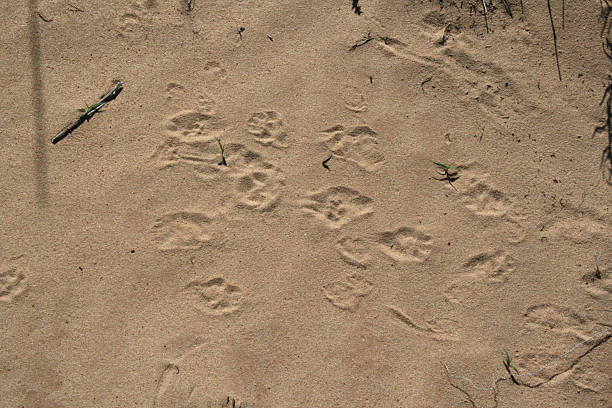animal_foot_print: (514, 303, 611, 387), (151, 96, 223, 178), (460, 170, 526, 243), (226, 144, 284, 211), (444, 250, 514, 303), (151, 136, 222, 178), (301, 186, 372, 228), (321, 125, 384, 170), (387, 305, 456, 339), (152, 211, 212, 249), (524, 303, 589, 337), (184, 277, 242, 315), (376, 226, 432, 262), (235, 170, 282, 211), (461, 178, 511, 216), (323, 274, 372, 310), (462, 250, 514, 282), (165, 109, 221, 137), (116, 0, 156, 38), (247, 111, 287, 147), (581, 265, 611, 302), (336, 237, 371, 267), (0, 266, 26, 302), (344, 87, 367, 112), (203, 61, 225, 80)
